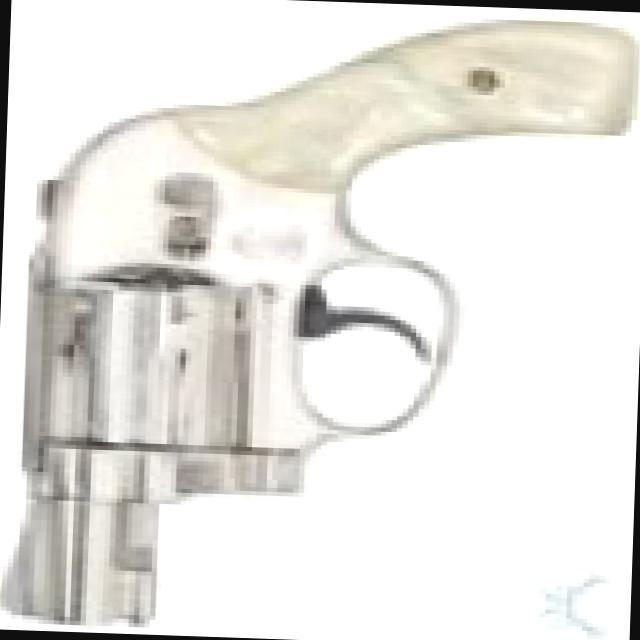handgun: (0, 13, 634, 639)
